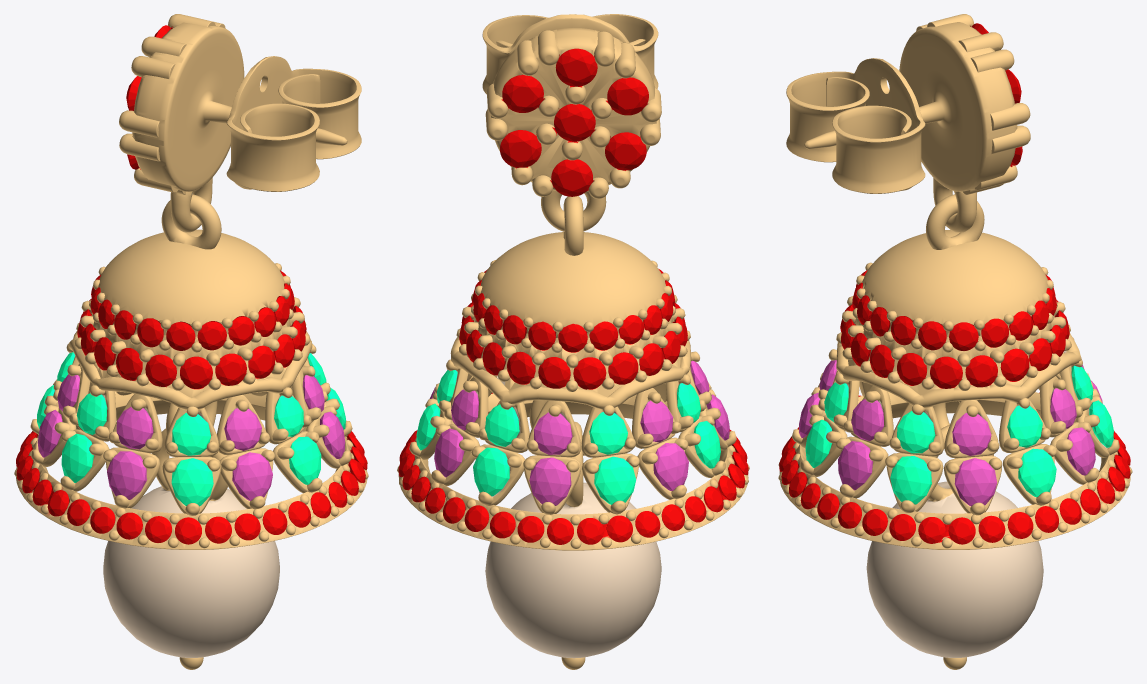
Rendered from Jumka 4.fbx.
The picture shows the model from 3 angles, left to right: view 1: azimuth 30°, elevation 25°; view 2: azimuth 150°, elevation 25°; view 3: azimuth 270°, elevation 25°; orthographic projection.
Parts seen in each view (by area): view 1: Cylinder.006, SM_Brilliant.003, Cylinder.007, Vert.002; view 2: Cylinder.006, SM_Brilliant.003, Cylinder.007, Vert.002; view 3: Cylinder.006, SM_Brilliant.003, Cylinder.007, Vert.002.
Part boxes in pixels (bbox=[...]): Cylinder.006: bbox=[14, 14, 368, 549]; SM_Brilliant.003: bbox=[16, 25, 367, 544]; Cylinder.007: bbox=[103, 401, 279, 669]; Vert.002: bbox=[226, 56, 361, 191]; Cylinder.006: bbox=[397, 28, 749, 550]; SM_Brilliant.003: bbox=[398, 48, 748, 544]; Cylinder.007: bbox=[485, 400, 661, 669]; Vert.002: bbox=[482, 14, 658, 94]; Cylinder.006: bbox=[778, 14, 1132, 549]; SM_Brilliant.003: bbox=[779, 23, 1130, 544]; Cylinder.007: bbox=[866, 400, 1043, 669]; Vert.002: bbox=[786, 58, 925, 193].
Size of the model in its own units: 6.52 by 6.53 by 12.98.
